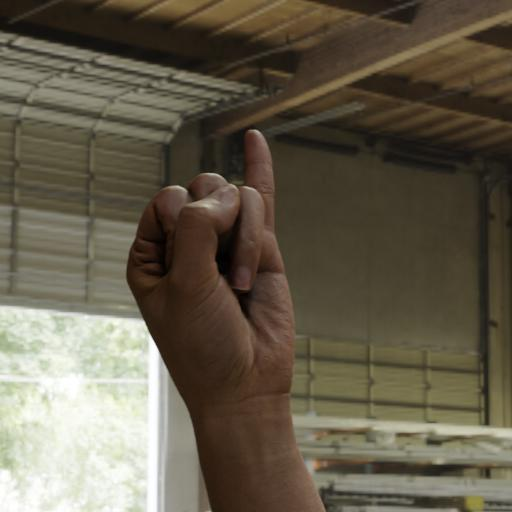I: (116, 109, 330, 412)
